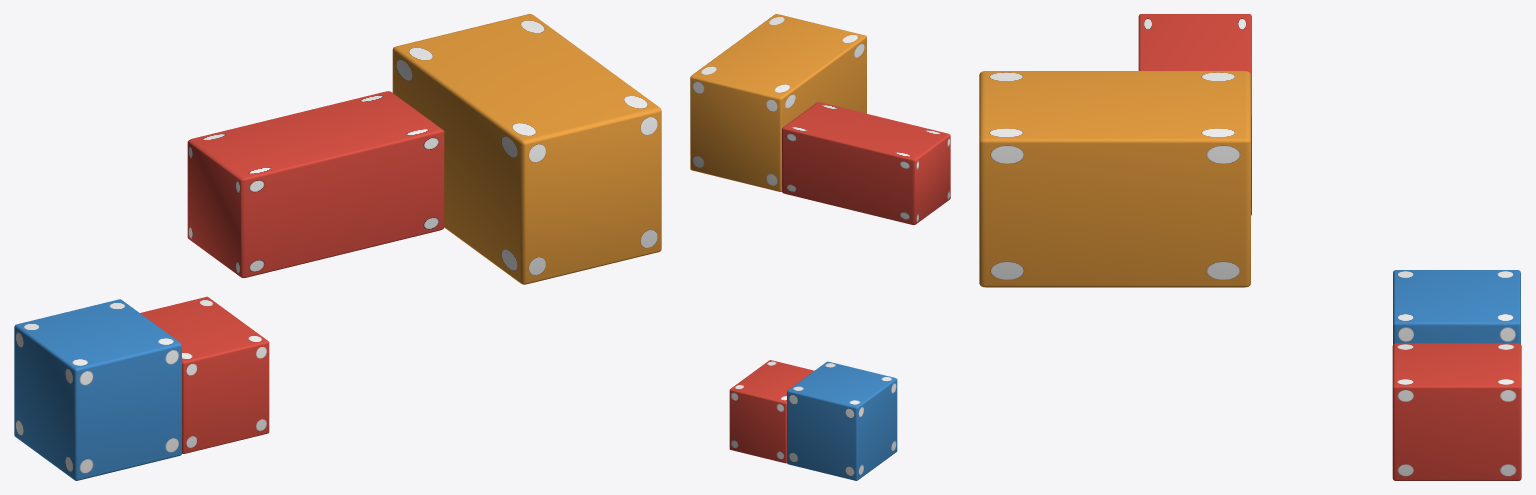
Rendered from cubDec.obj.
3 renders of one model, left to right at view 1: azimuth 30°, elevation 25°; view 2: azimuth 150°, elevation 25°; view 3: azimuth 270°, elevation 25°, orthographic. The views are drawn at different scales.
Visible parts, largest first — view 1: cubeUsed.001, cubeUsed.003, cubeUsed.002, cubeUsed.004; view 2: cubeUsed.001, cubeUsed.003, cubeUsed.002, cubeUsed.004; view 3: cubeUsed.001, cubeUsed.004, cubeUsed.002, cubeUsed.003.
Part boxes in pixels (x1=…): cubeUsed.001: x1=392, y1=14, x2=661, y2=284; cubeUsed.003: x1=187, y1=91, x2=444, y2=277; cubeUsed.002: x1=14, y1=299, x2=181, y2=480; cubeUsed.004: x1=140, y1=296, x2=269, y2=453; cubeUsed.001: x1=690, y1=14, x2=866, y2=191; cubeUsed.003: x1=782, y1=102, x2=950, y2=224; cubeUsed.002: x1=787, y1=361, x2=897, y2=480; cubeUsed.004: x1=729, y1=360, x2=814, y2=463; cubeUsed.001: x1=979, y1=71, x2=1250, y2=287; cubeUsed.004: x1=1392, y1=343, x2=1521, y2=480; cubeUsed.002: x1=1393, y1=270, x2=1520, y2=344; cubeUsed.003: x1=1138, y1=14, x2=1251, y2=215.
Bounding box in the file's own units: 14.02 × 14.79 × 16.55.
Materials: 4 (4 with a texture image).
